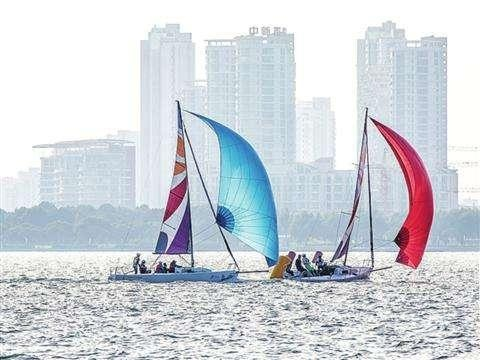fanchuan: (102, 98, 281, 283), (286, 107, 441, 285)
